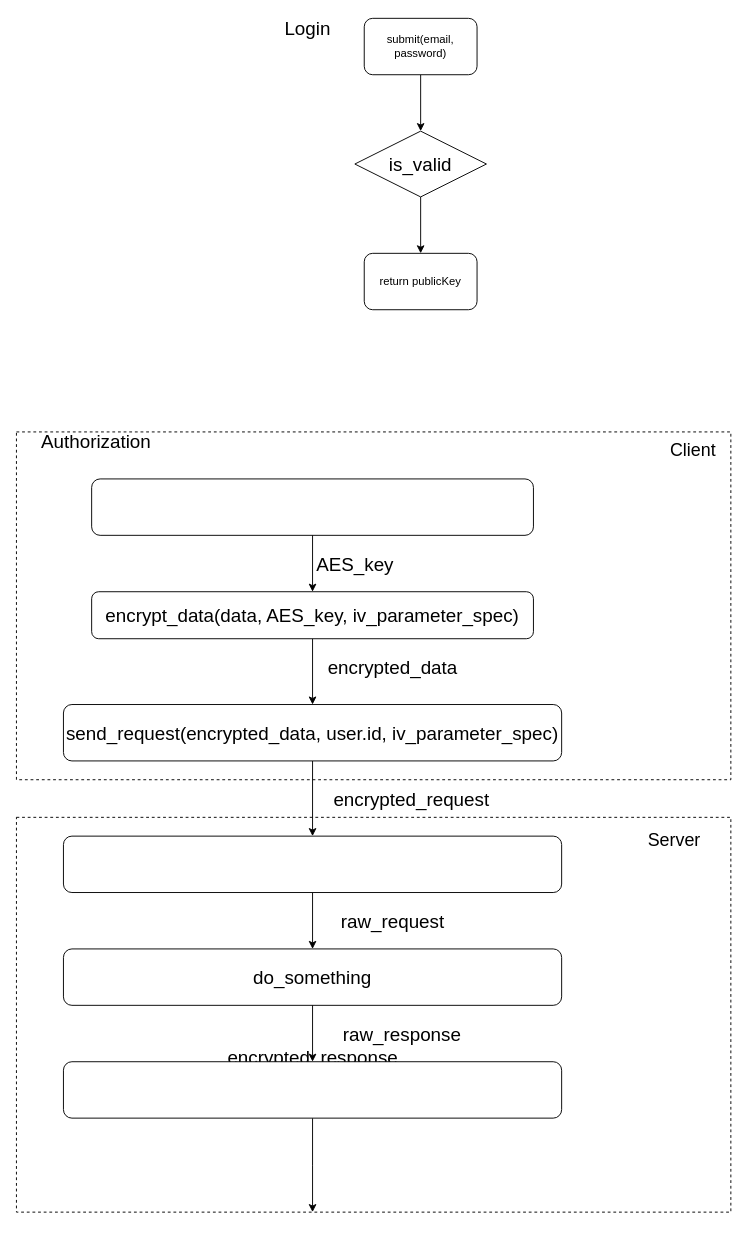
Image size: 747x1236. Some labels were removed from this diagram. Here are the shapes that lost their labels. From the top down, the centre of each, then its label:
At pixel 312 506: "generate_AES_key( user.public_key, user.email )".
At pixel 312 864: "authorization/decrypt_data(encrypted_data, user.id, iv_parameter_spec)".
At pixel 312 1089: "encryp_data(raw_response, iv_parameter_spec)".
